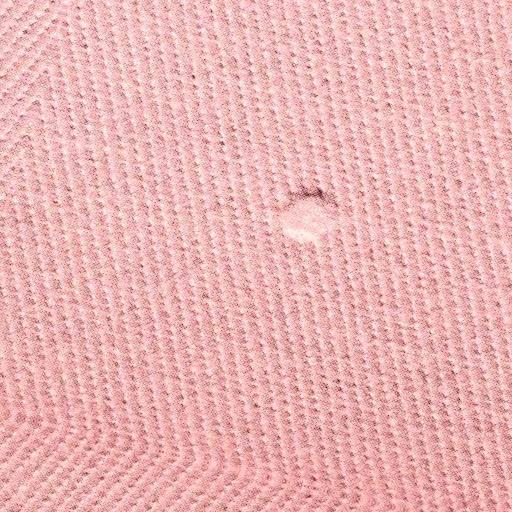knot: (273, 184, 351, 247)
